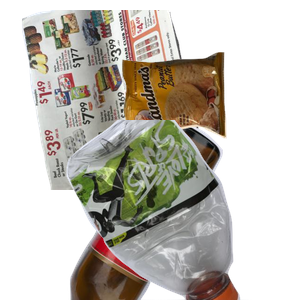glass: (67, 120, 282, 300)
paper: (19, 10, 223, 190)
plastic: (64, 120, 300, 300)
trash: (120, 50, 300, 182)
